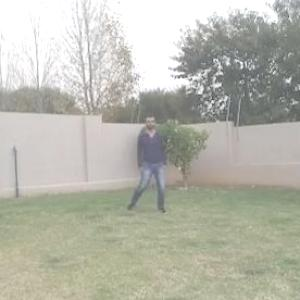follow: (138, 112, 162, 209)
